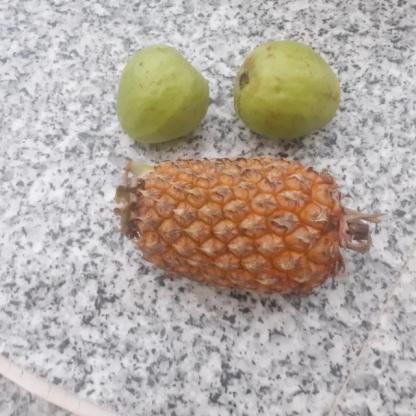guava: (229, 42, 340, 137), (112, 46, 210, 139)
pineapple: (118, 152, 356, 292)
